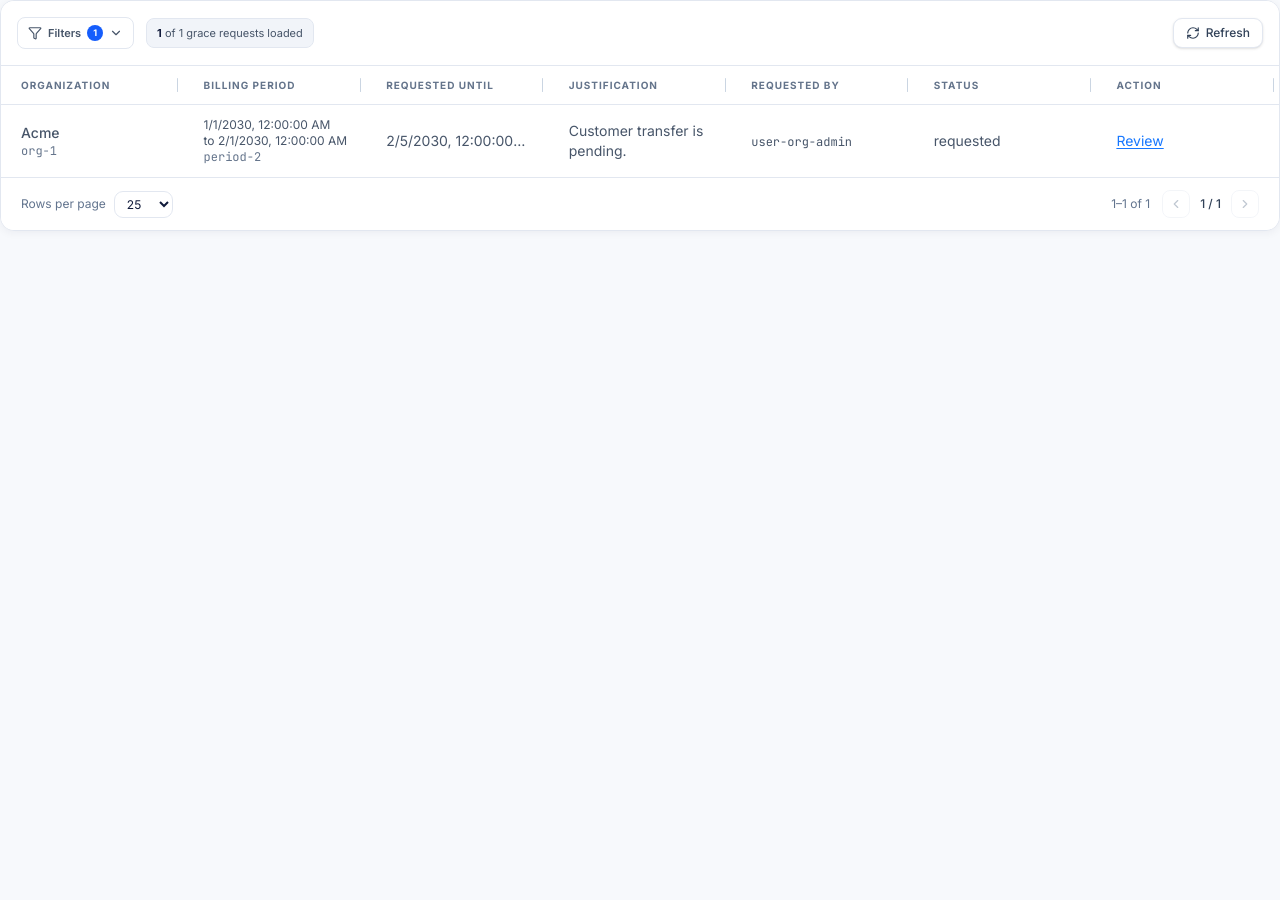
Test: platform subscription grace queue › shows request details and submits an approval with the request version and idempotency key
Check: the text "Customer transfer is pending." is shown, box [569, 122, 703, 159]
Check: the text "user-org-admin" is shown, box [751, 134, 852, 150]
Click the button "Review" at (1140, 141), box [1116, 131, 1164, 151]
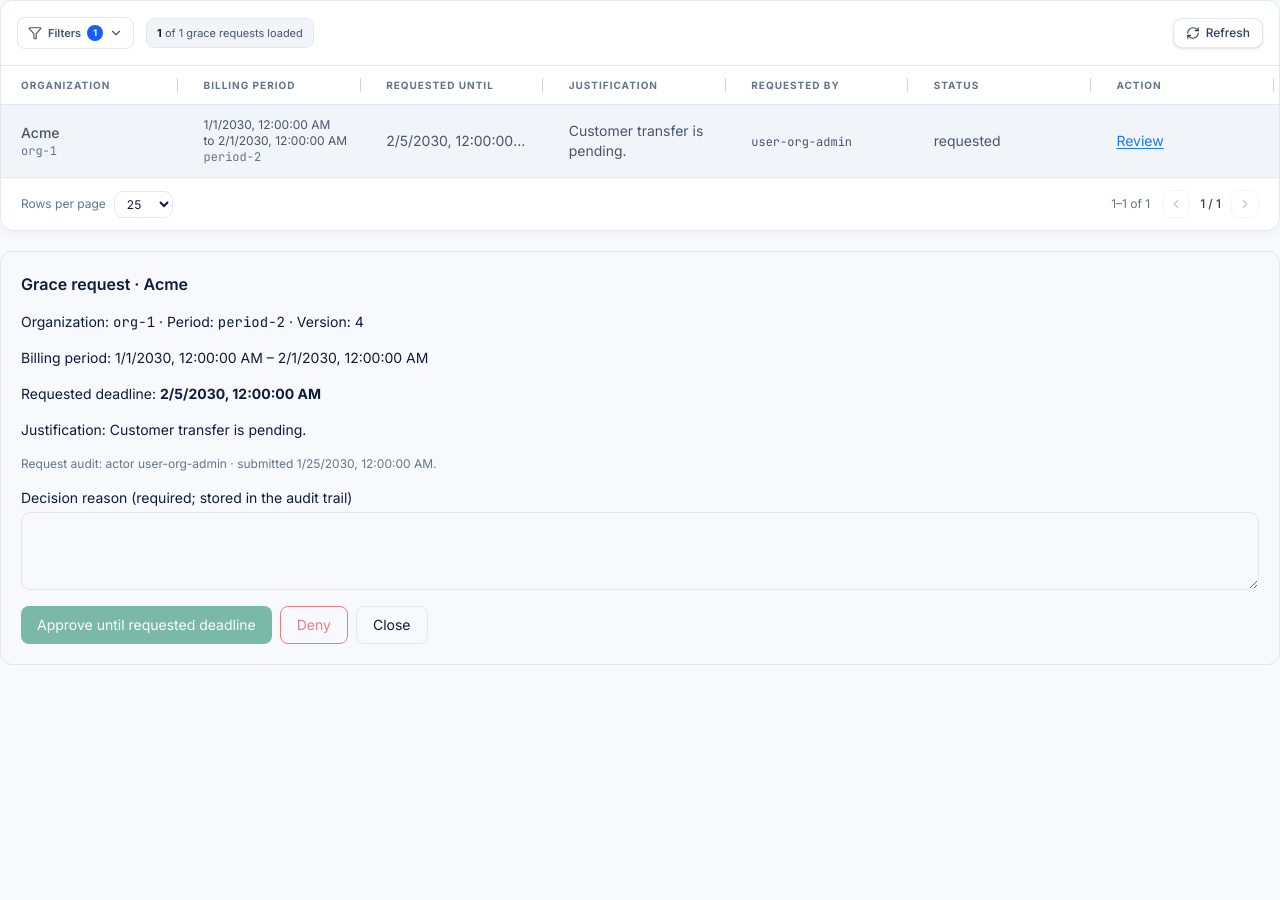
Type "Confirmed transfer processing with finance." into the text box labelled "Decision reason (required; stored in the audit trail)" at (640, 551), box [21, 512, 1259, 590]
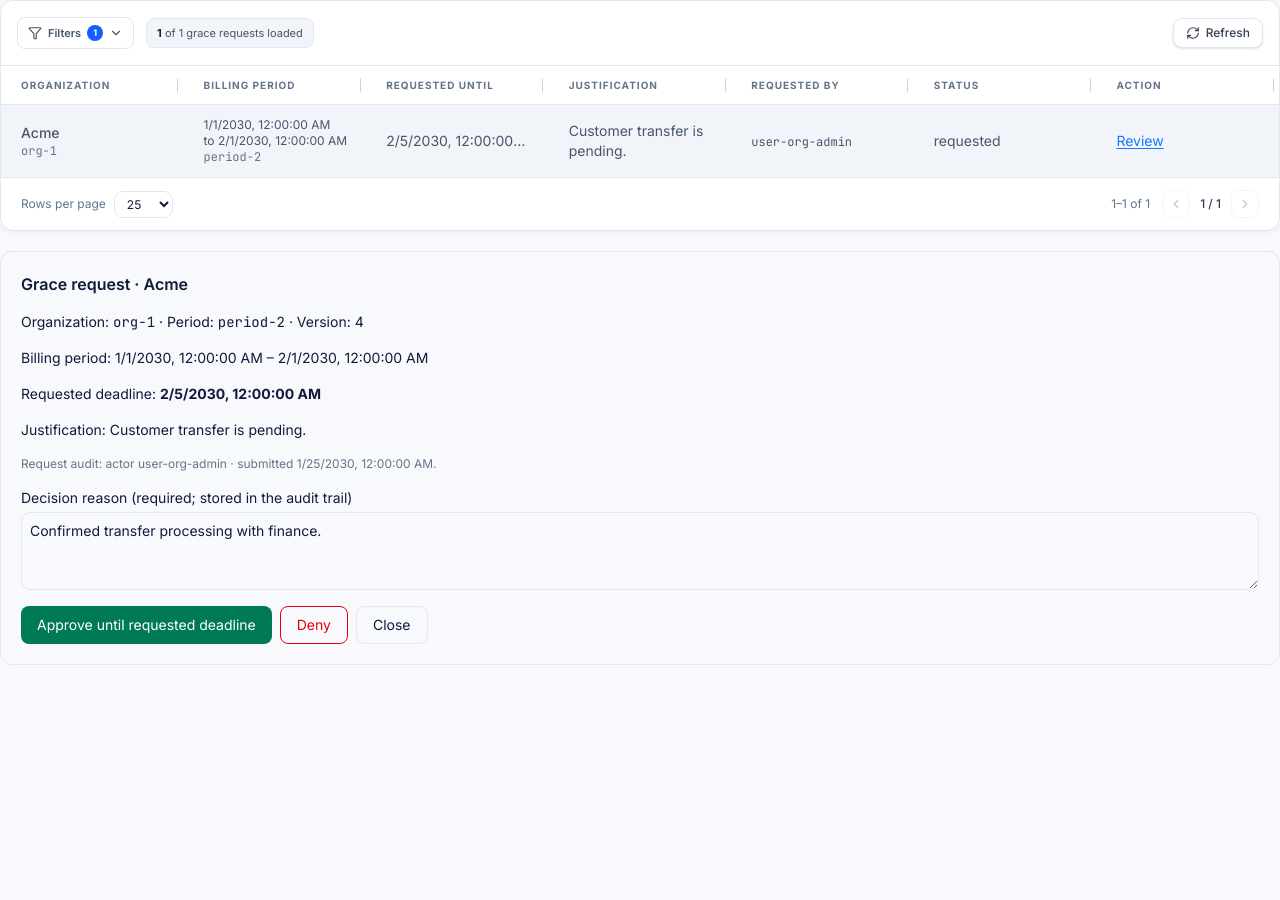
Click the button "Approve until requested deadline" at (146, 625), box [21, 606, 272, 644]
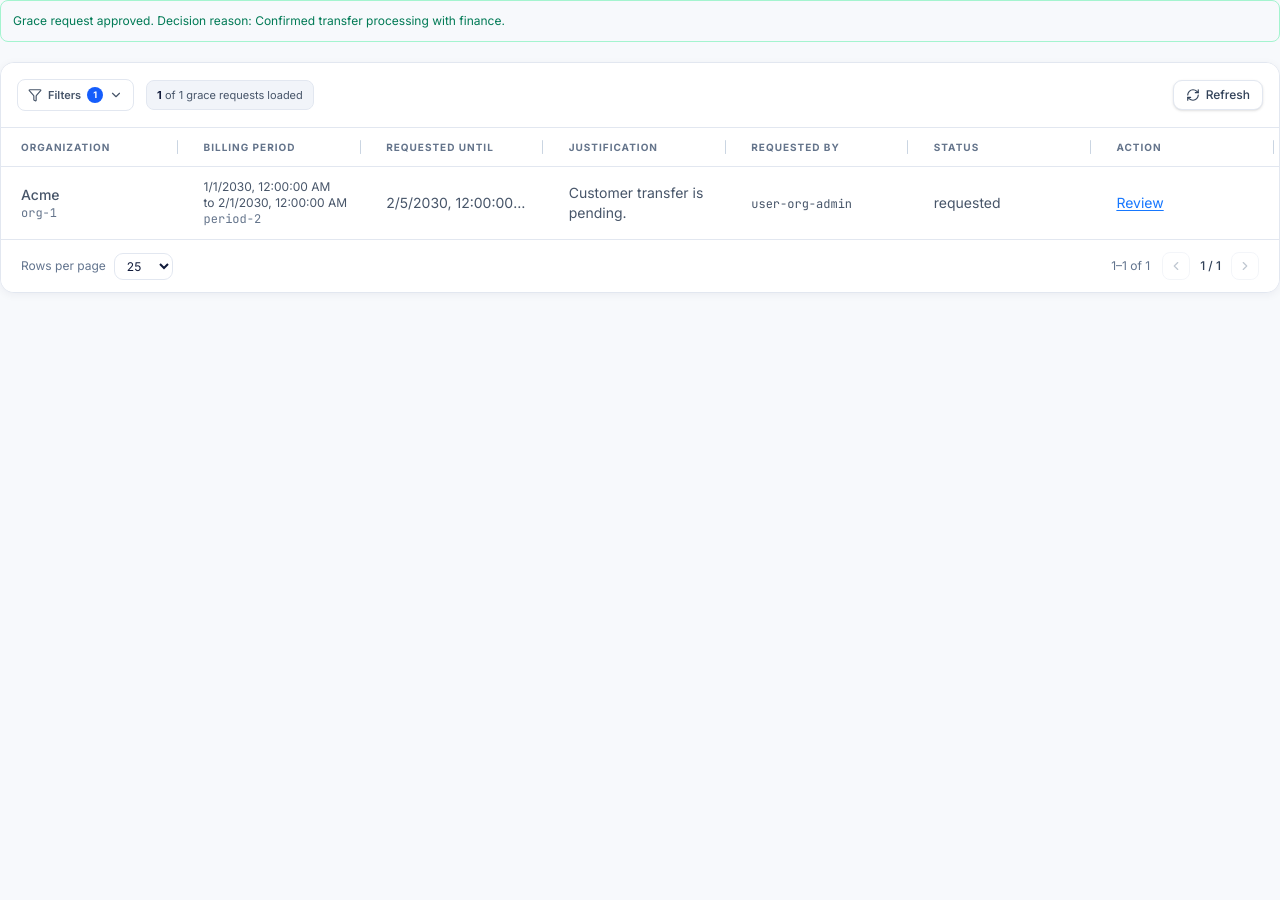
Check: the message shows "Grace request approved", box [13, 13, 505, 28]
